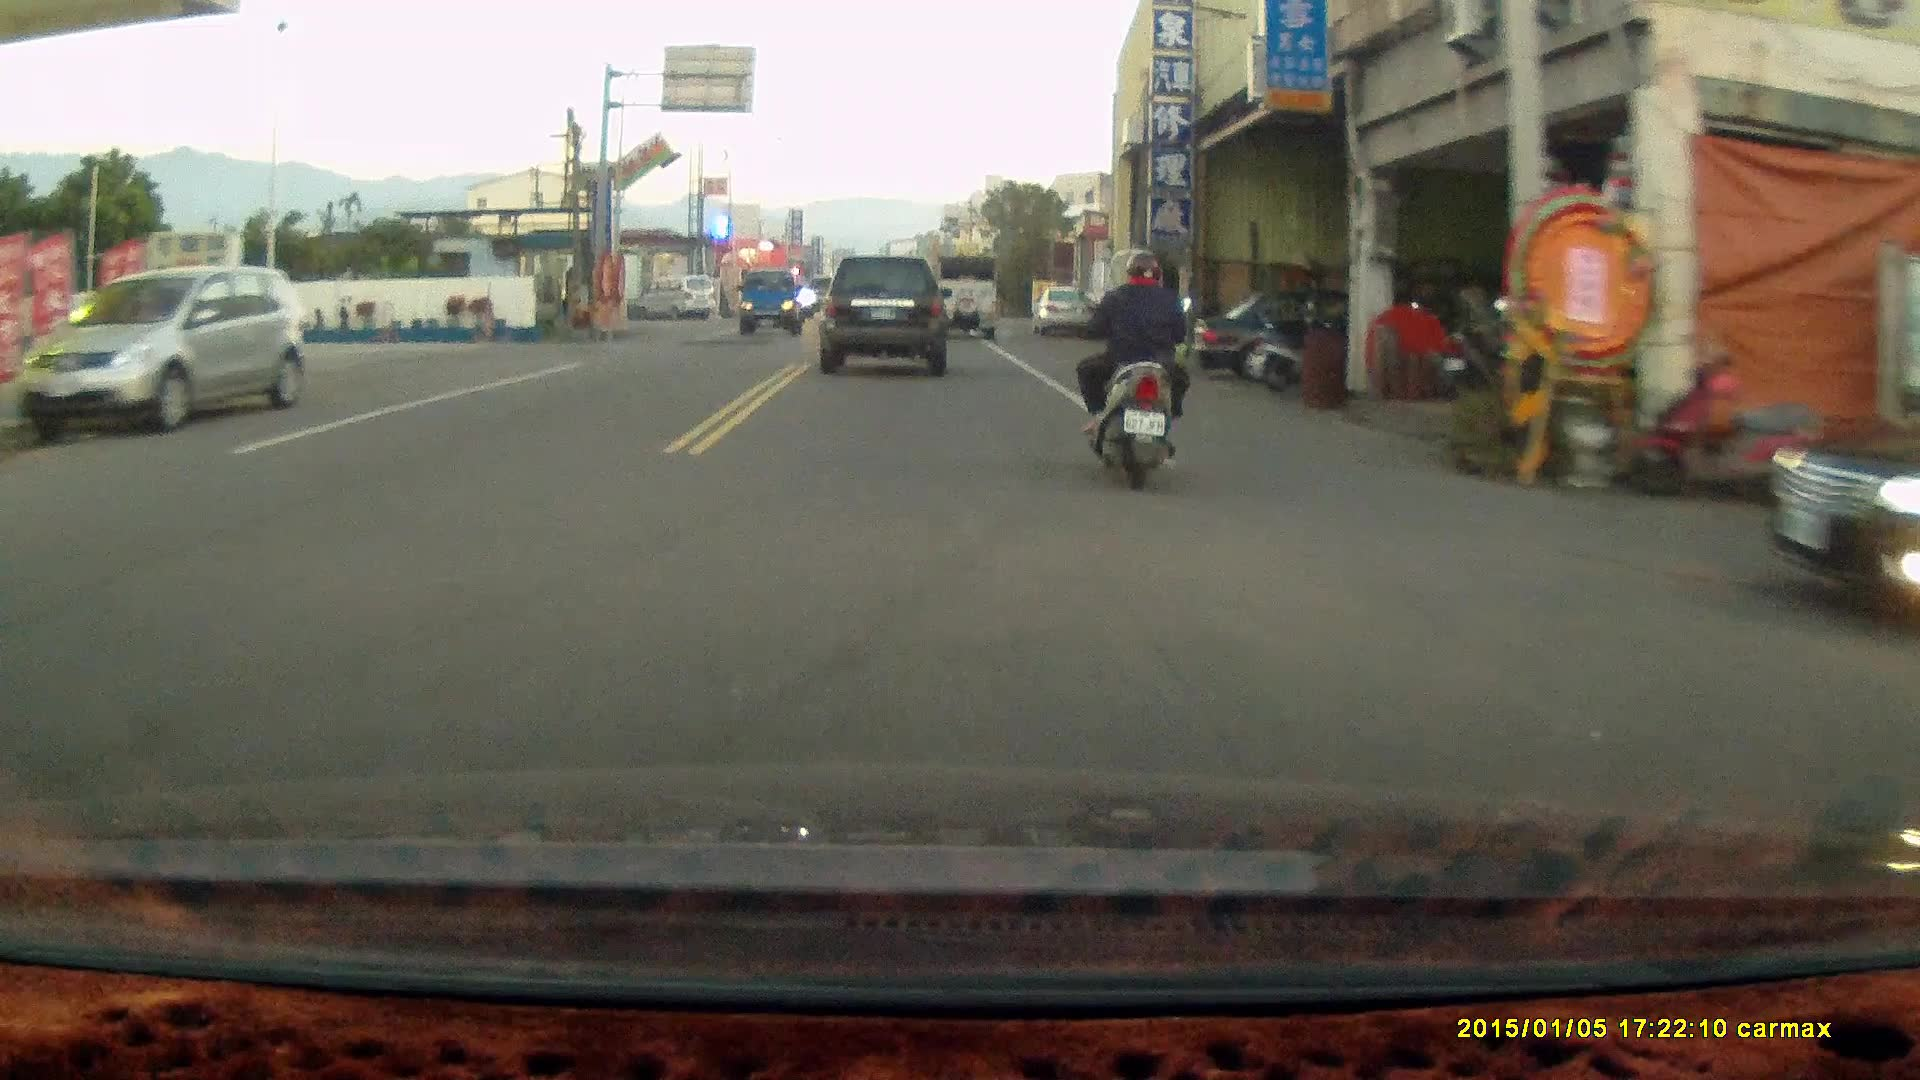rider: (1075, 247, 1189, 489)
vehicle: (22, 268, 309, 433), (1767, 367, 1920, 633), (1188, 288, 1425, 389), (816, 256, 950, 382), (928, 255, 1001, 340), (737, 270, 808, 340), (635, 277, 719, 321), (1034, 285, 1092, 337)
